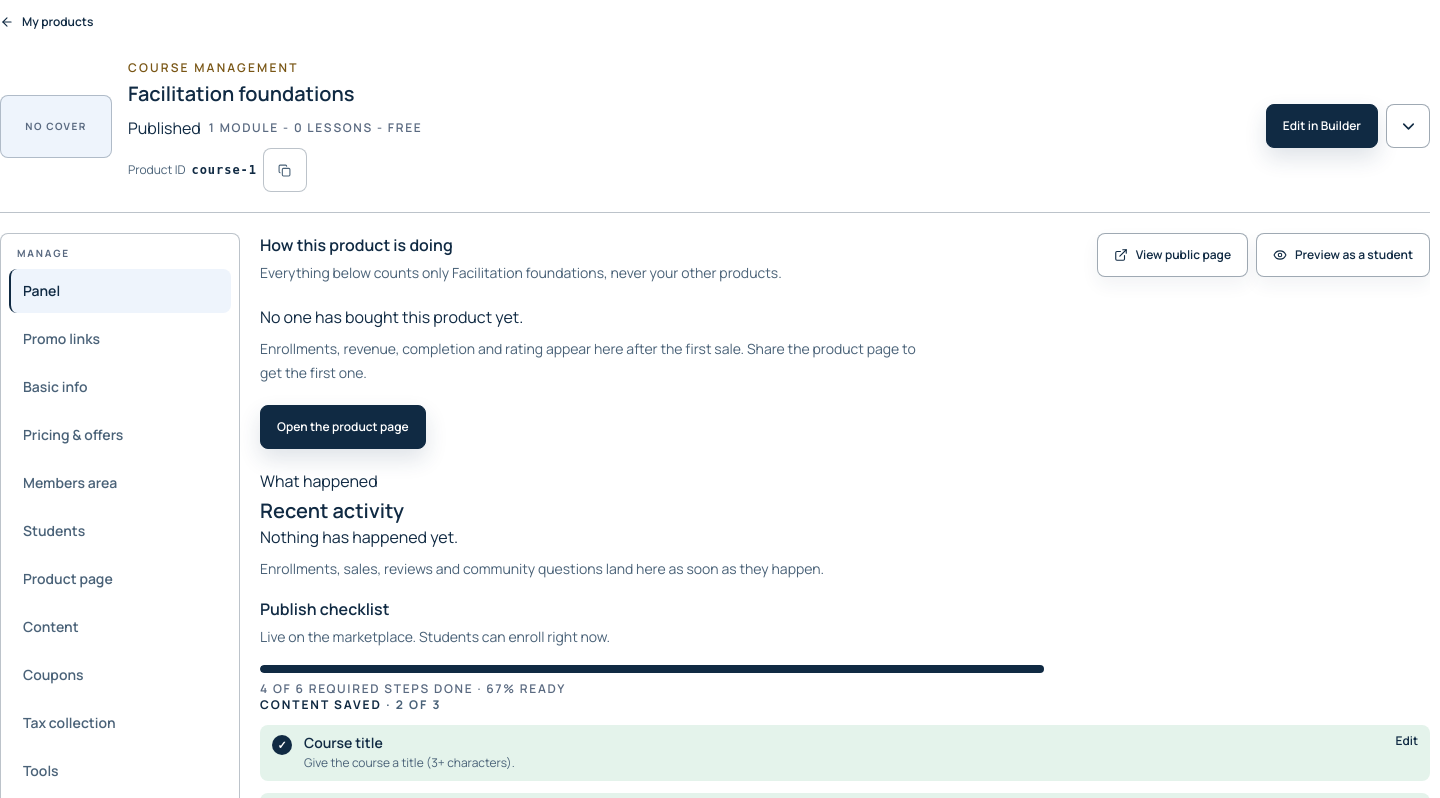
modal de excluir/arquivar — o texto segue o dado › sem comprador, avisa que a exclusão é permanente
Click the button named "More actions for Facilitation foundations" at (1408, 126), box [1386,104,1430,148]
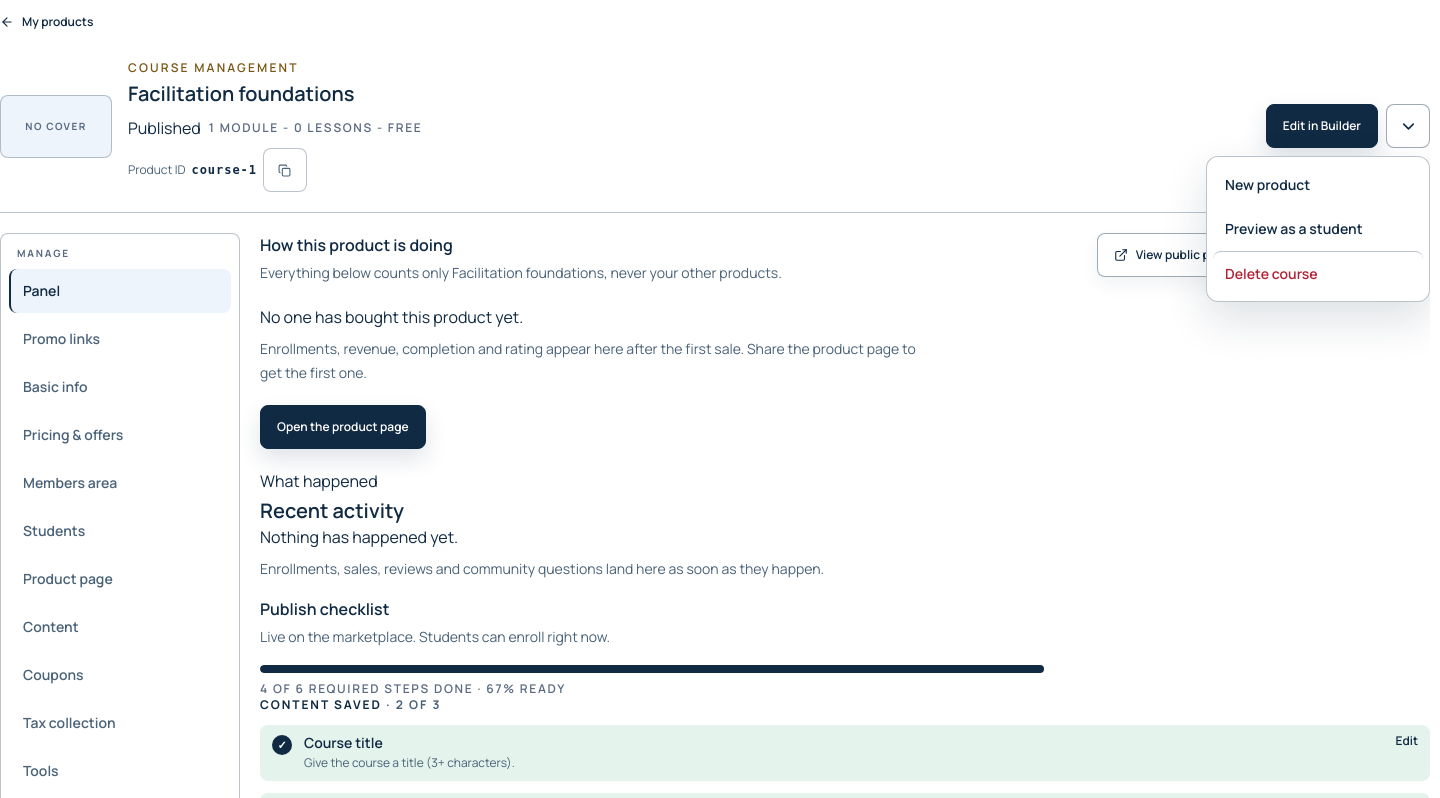
Click the menu item "Delete course" at (1318, 273), box [1213,251,1423,295]
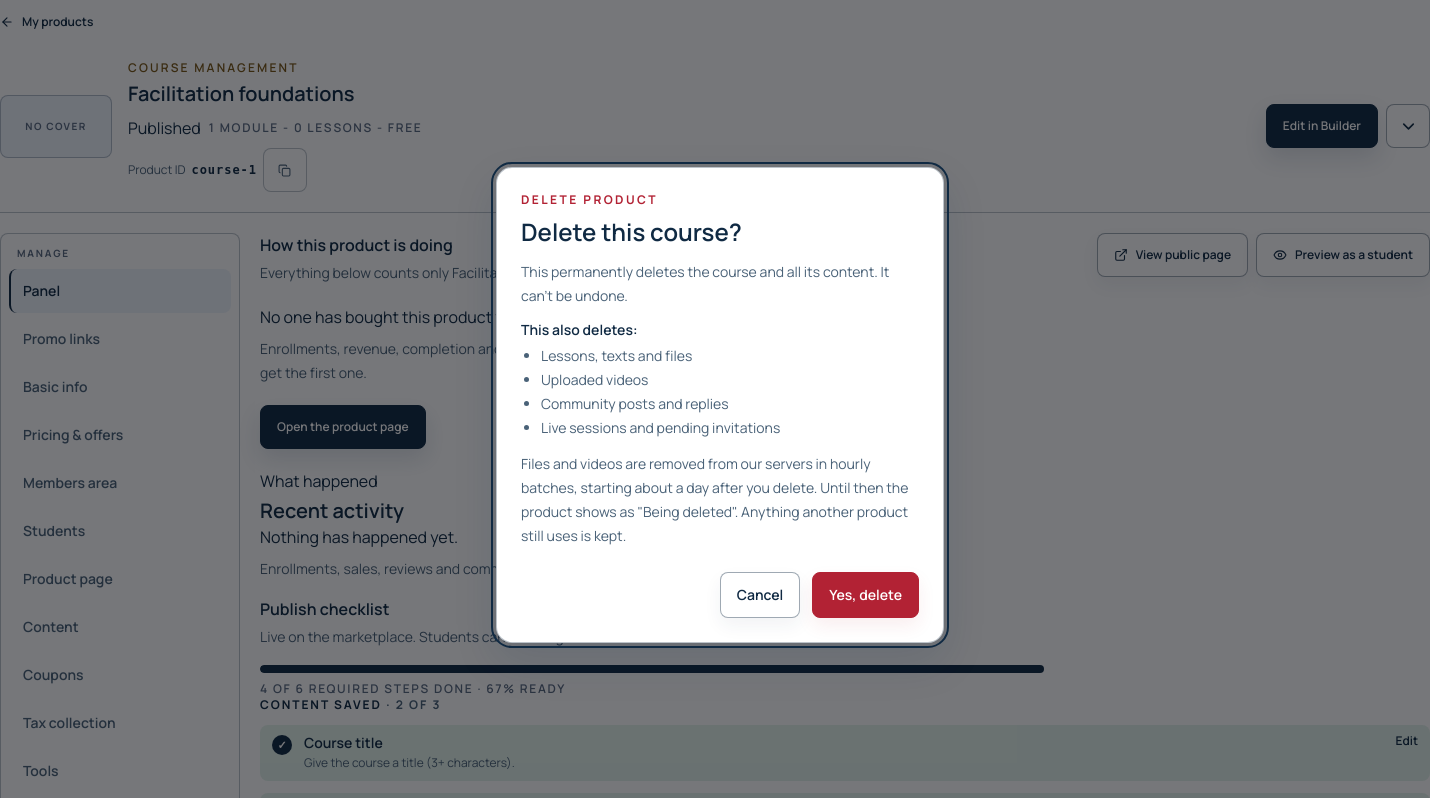
expect the heading "Delete this course?" is shown: met, box [521,215,742,248]
expect the text "This permanently deletes the course and all its content. It can't be undone." is shown: met, box [521,260,919,308]
expect the button "Yes, delete" is shown: met, box [812,572,919,618]
